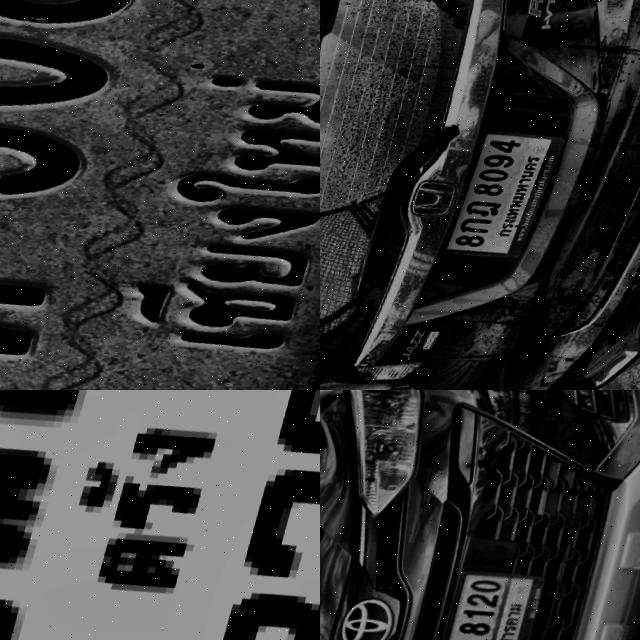license-plate: (0, 0, 320, 390), (0, 390, 320, 640), (446, 125, 578, 276), (431, 567, 560, 640)
